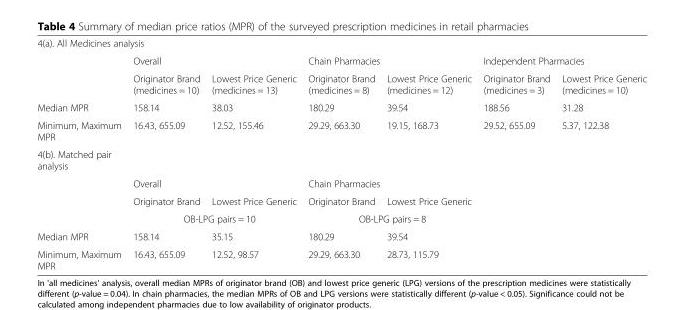table: (36, 37, 646, 270)
table column: (205, 37, 301, 270), (380, 37, 476, 270), (555, 37, 646, 270), (36, 37, 126, 270), (126, 37, 205, 270), (301, 37, 380, 270), (476, 37, 555, 270)
table projected row header: (36, 145, 646, 174), (36, 37, 646, 51)
table row: (36, 69, 646, 98), (36, 116, 646, 145), (36, 145, 646, 174), (36, 245, 646, 270), (36, 51, 646, 69), (36, 98, 646, 116), (36, 191, 646, 209), (36, 209, 646, 227), (36, 227, 646, 245), (36, 174, 646, 191), (36, 37, 646, 51)
table spanning cell: (301, 209, 646, 227), (301, 174, 646, 191), (126, 51, 301, 69), (301, 51, 476, 69), (126, 209, 301, 227), (476, 51, 646, 69), (126, 174, 301, 191)
